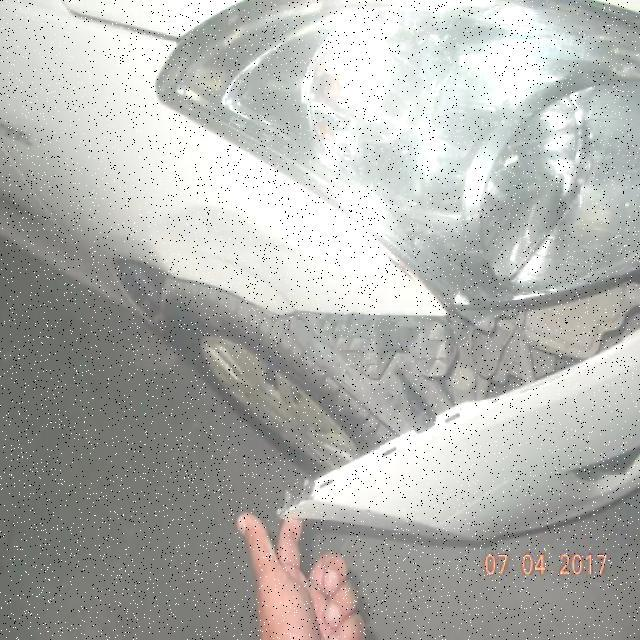car damage: (273, 274, 639, 508)
